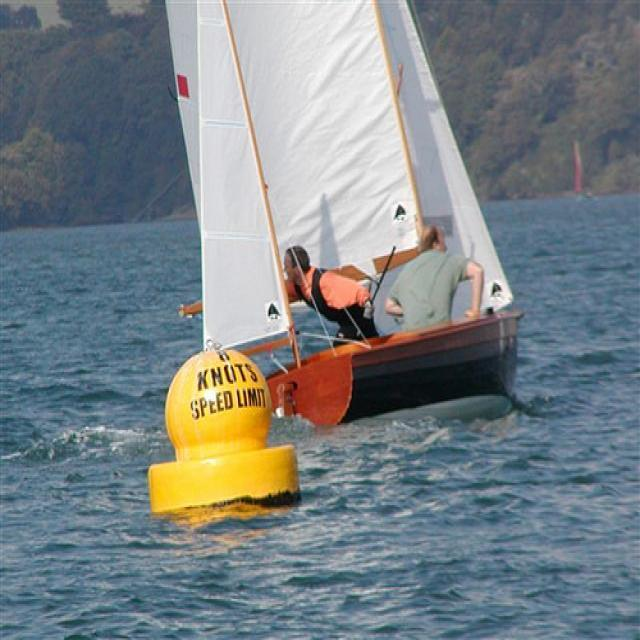Ship: (170, 1, 528, 428)
